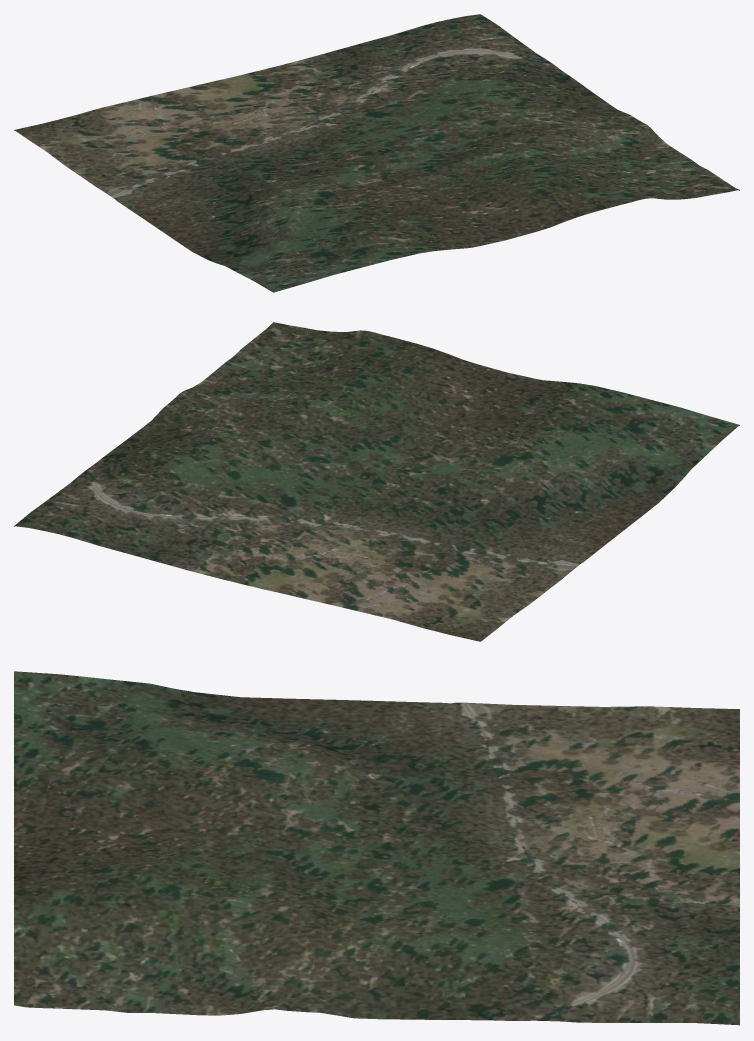
The picture shows the model from 3 angles, top to bottom: view 1: azimuth 30°, elevation 25°; view 2: azimuth 150°, elevation 25°; view 3: azimuth 270°, elevation 25°; orthographic projection. The views are drawn at different scales.
Bounding box in the file's own units: 500 × 34.1 × 481.
Materials: 1 (1 with a texture image).
